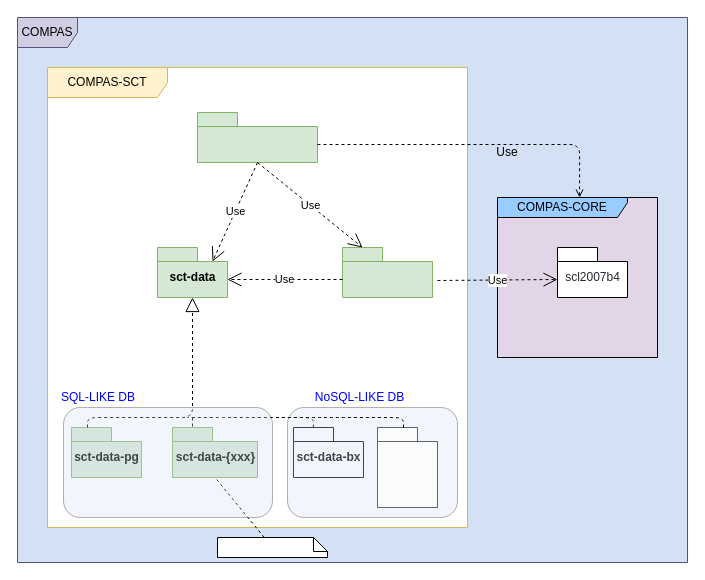
Some shapes in this 705 by 580 pixel diagram are drawn without their labels. Here are the shapes that lost their labels. From the top down, the centre of each, then its label:
point (257, 137): sct-app (automation app)
point (387, 272): sct-commons
point (407, 467): sct-data for local repository
point (272, 547): any custom DB
